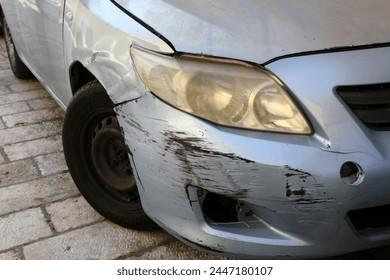scratch: (113, 97, 334, 256)
